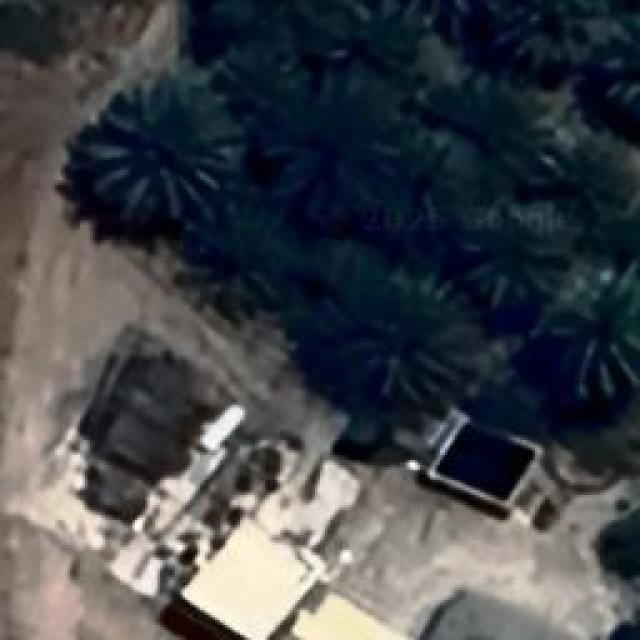PalmTree: (125, 11, 444, 89), (115, 89, 236, 260), (72, 95, 230, 223), (322, 284, 446, 416), (452, 2, 596, 88), (274, 116, 388, 222), (456, 190, 552, 310), (555, 264, 635, 398), (426, 82, 546, 170), (200, 32, 308, 116), (555, 128, 640, 228), (309, 0, 432, 69), (575, 34, 640, 128), (388, 157, 456, 230), (225, 0, 356, 35)
